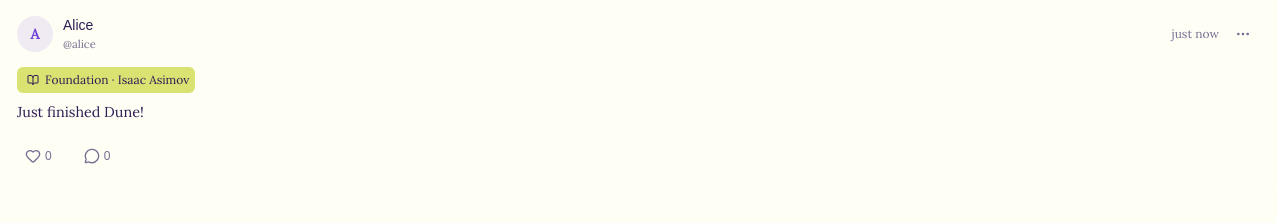
Test: PostCard — book display › shows Remove book button on the pill in edit mode for a manual book
What coordinates should you click on to do the following:
click the button named "Post options"
I would click on:
 (1243, 34)
Its box is [1229,20,1257,48].
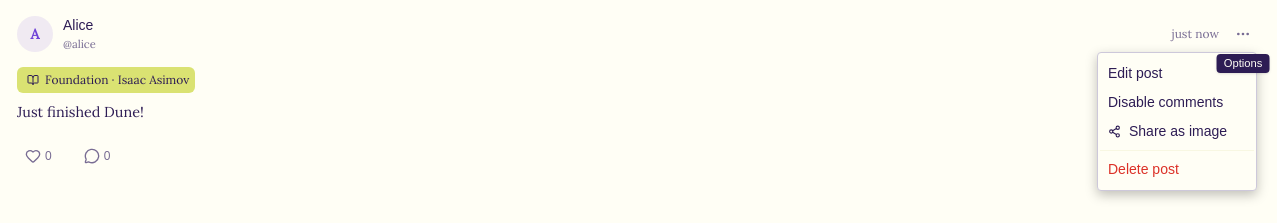
What coordinates should you click on to do the following:
click the menu item "Edit post"
I would click on:
 (1135, 73)
Its box is [1108,65,1162,81].
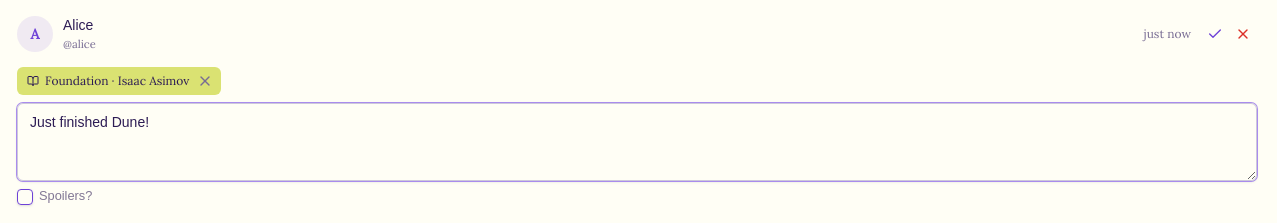
Check: the button named "Remove book" is shown, box [195,71,215,91]
